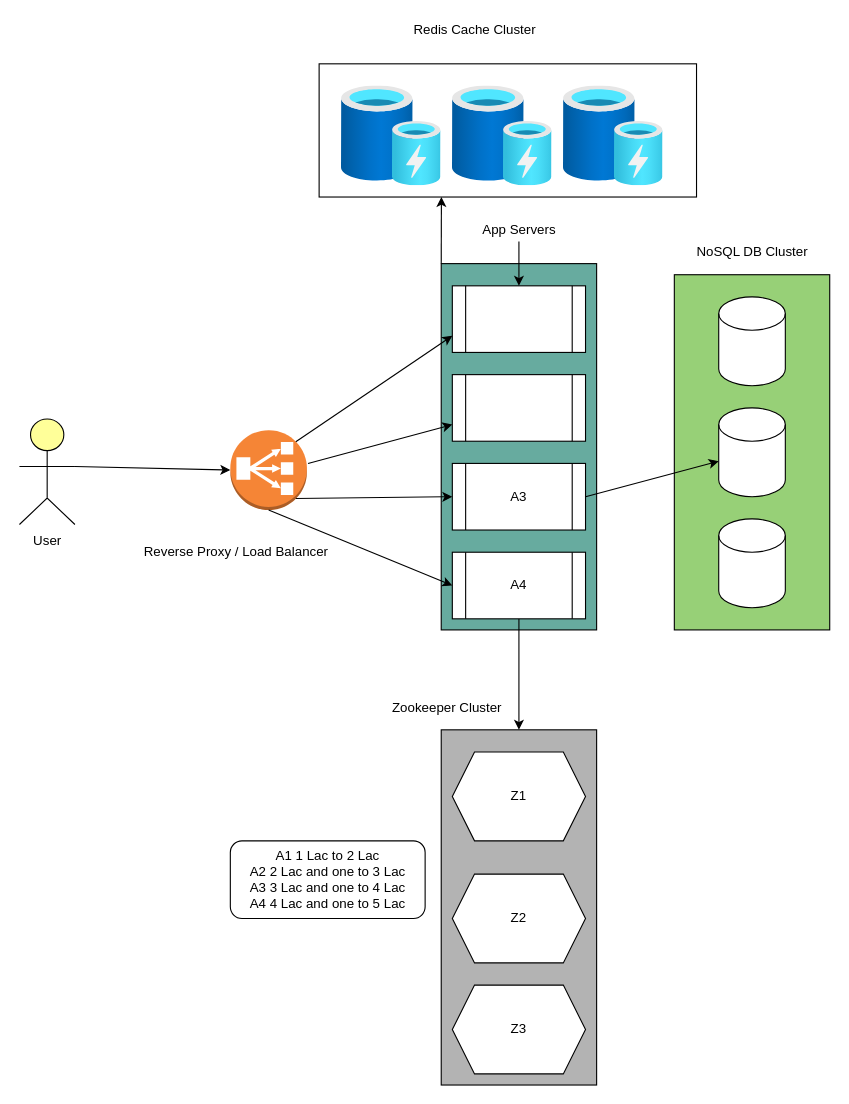
Image size: 849x1104. Some labels were removed from this diagram. The shapes that lost their labels are listed below. From the top down, each one's centre as x and y in pixels, then its label:
(x=518, y=318): A1
(x=518, y=407): A2
